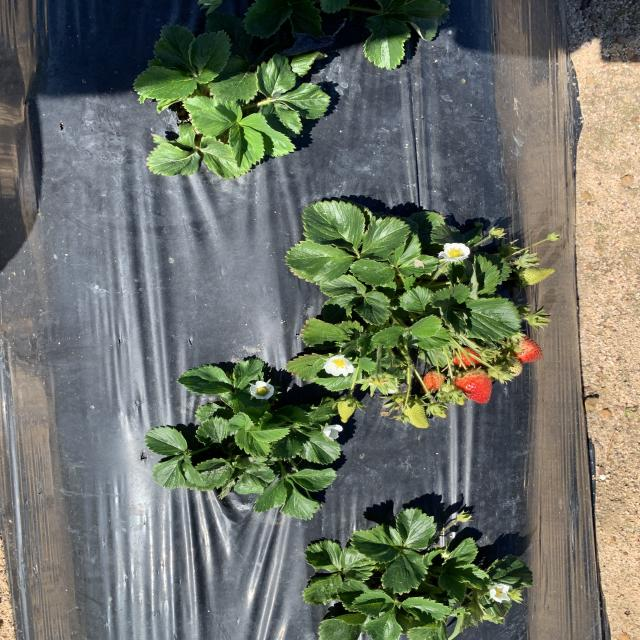unripe: (456, 369, 493, 406), (508, 336, 547, 362), (450, 346, 494, 368), (420, 369, 444, 393)
